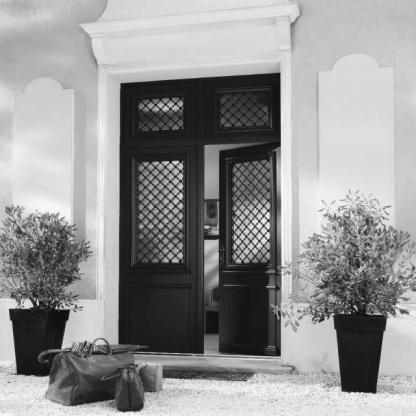door: (114, 142, 202, 360), (203, 141, 283, 362)
